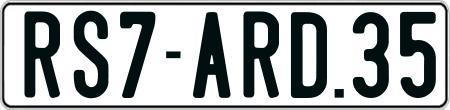3: (353, 9, 394, 96)
5: (400, 11, 433, 100)
7: (119, 12, 156, 102)
A: (191, 9, 232, 100)
D: (290, 12, 331, 100)
R: (242, 10, 280, 102), (22, 8, 60, 97)
S: (72, 10, 108, 98)
